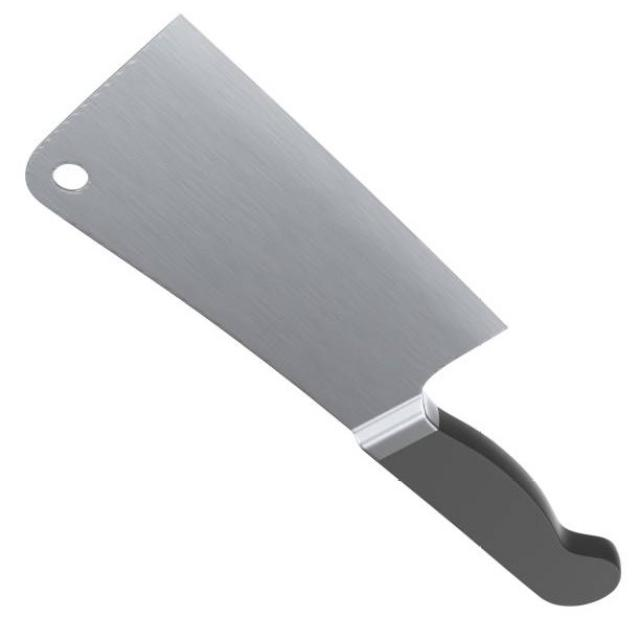knife: (14, 10, 624, 616)
